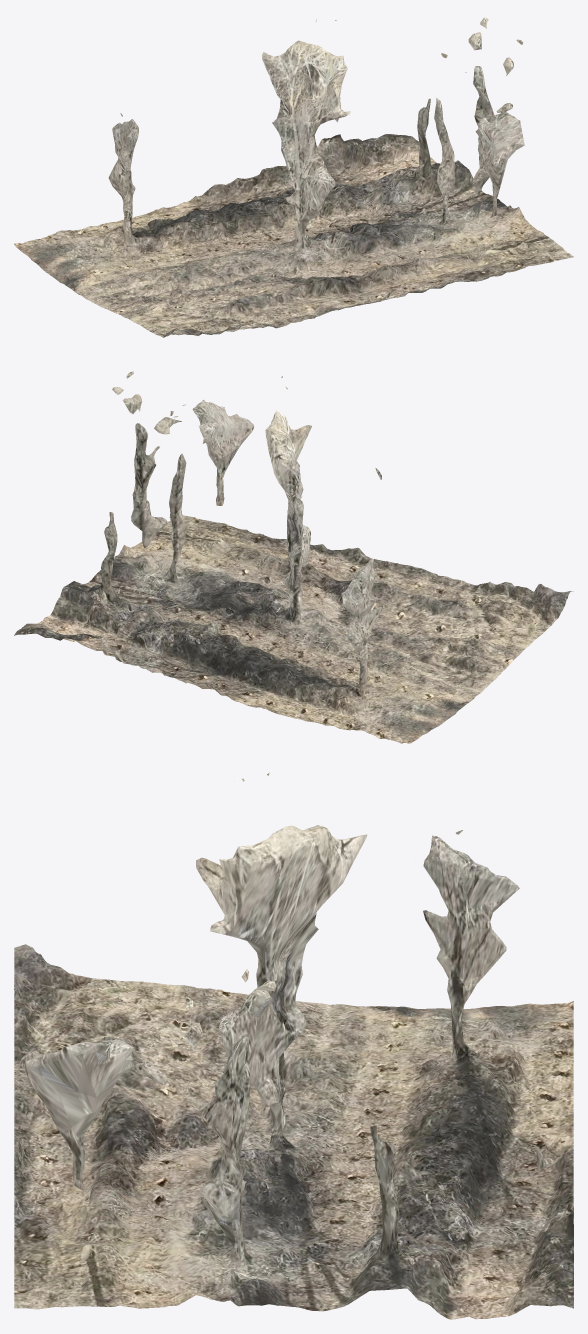
Rendered from Block_L20_273.glb.
The picture shows the model from 3 angles, top to bottom: view 1: azimuth 30°, elevation 25°; view 2: azimuth 150°, elevation 25°; view 3: azimuth 270°, elevation 25°; orthographic projection. The views are drawn at different scales.
Parts seen in each view (by area): view 1: rtc; view 2: rtc; view 3: rtc.
Part boxes in pixels (bbox=[...]): rtc: bbox=[14, 17, 573, 337]; rtc: bbox=[14, 371, 573, 743]; rtc: bbox=[14, 772, 573, 1319].
Bounding box in the file's own units: 24.35 × 14.79 × 17.65.
Materials: 4 (4 with a texture image).
